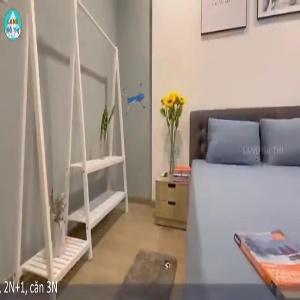drone: (111, 78, 163, 130)
